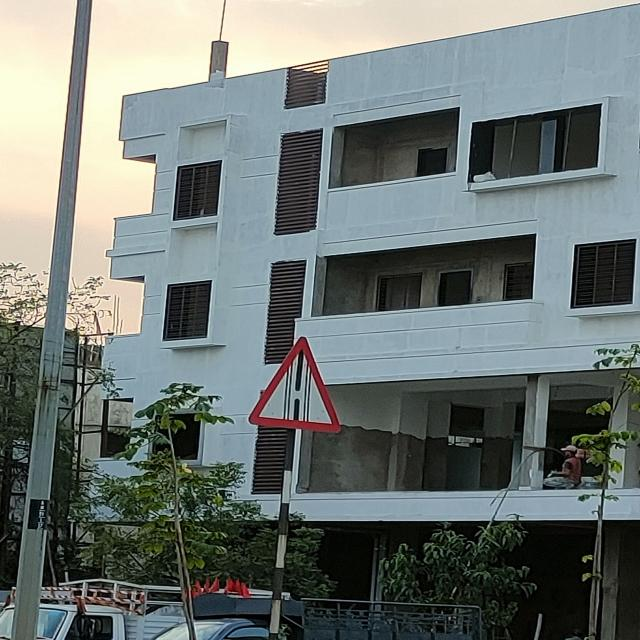GAP_IN_MEDIAN: (248, 339, 343, 431)
